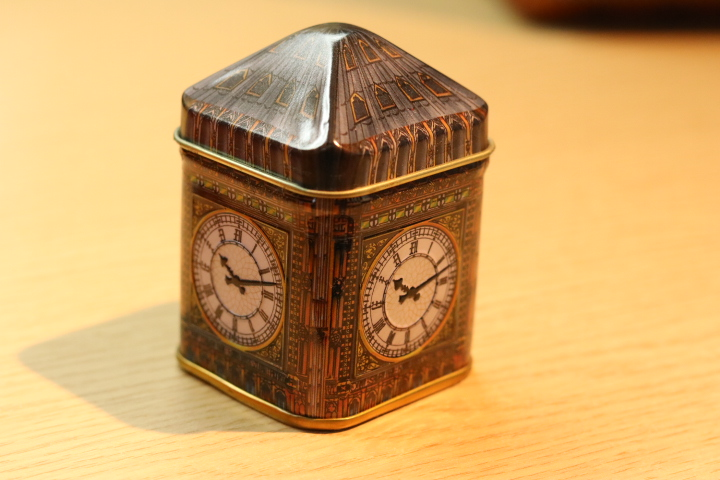Big Ben: (160, 11, 516, 443)
